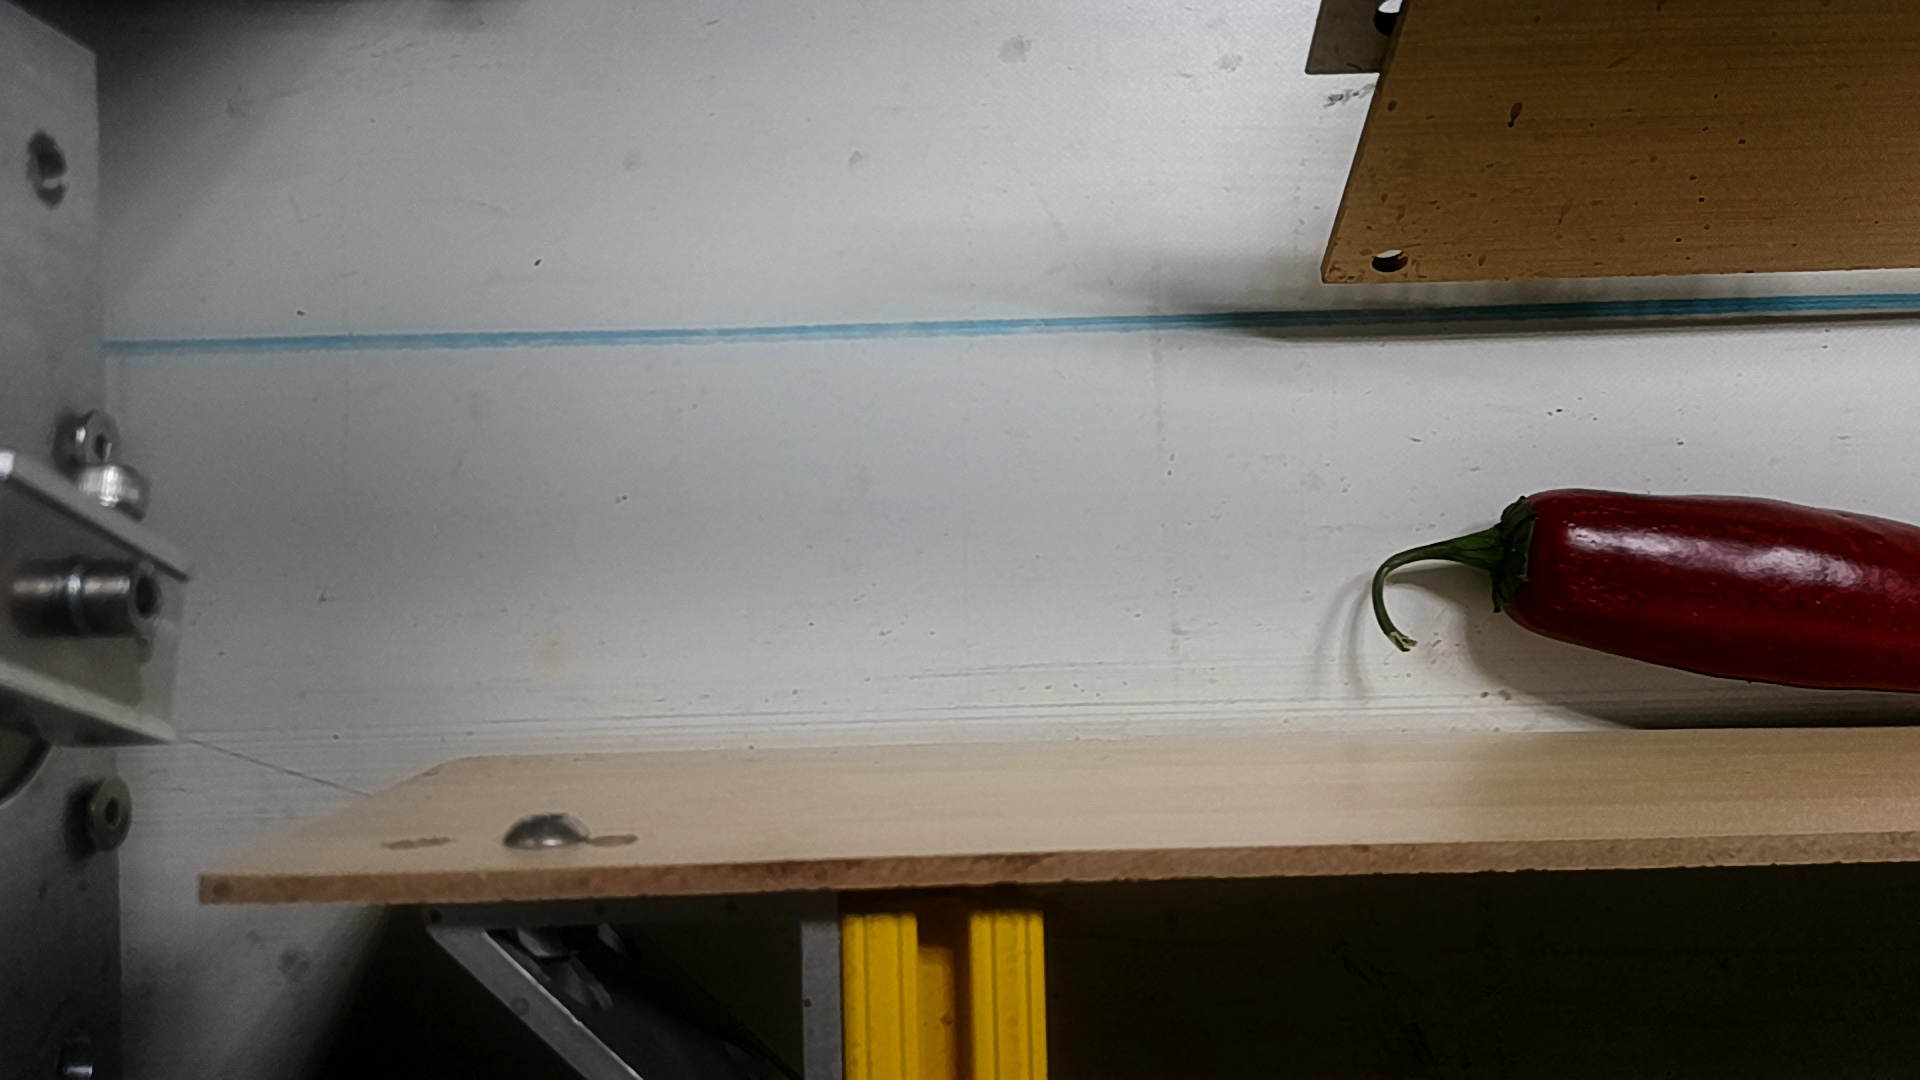Cut Point: (1462, 479, 1594, 636)
